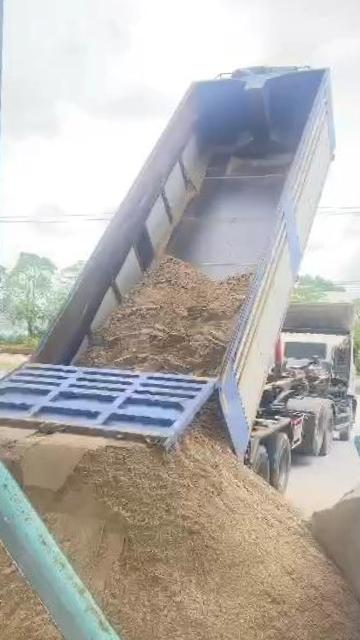sand: (0, 411, 360, 640), (82, 260, 247, 373), (0, 515, 130, 640), (311, 481, 360, 602)
